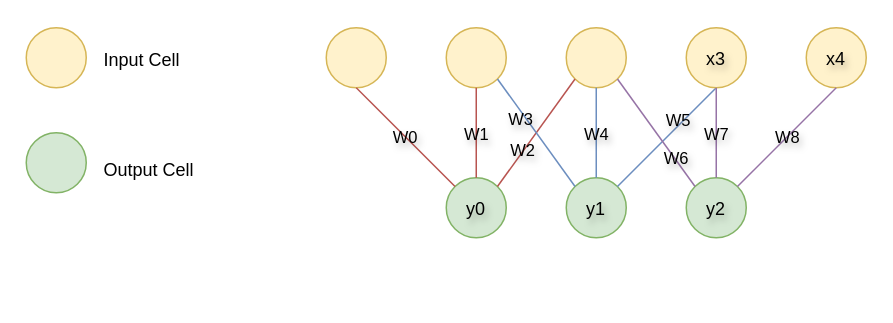
Image size: 893x323. Some labels were removed from this diagram. The shapes that lost their labels are listed below. From the top down, each one's centre as x and y in pixels, then its label:
(355,57): x0
(475,57): x1
(595,57): x2
